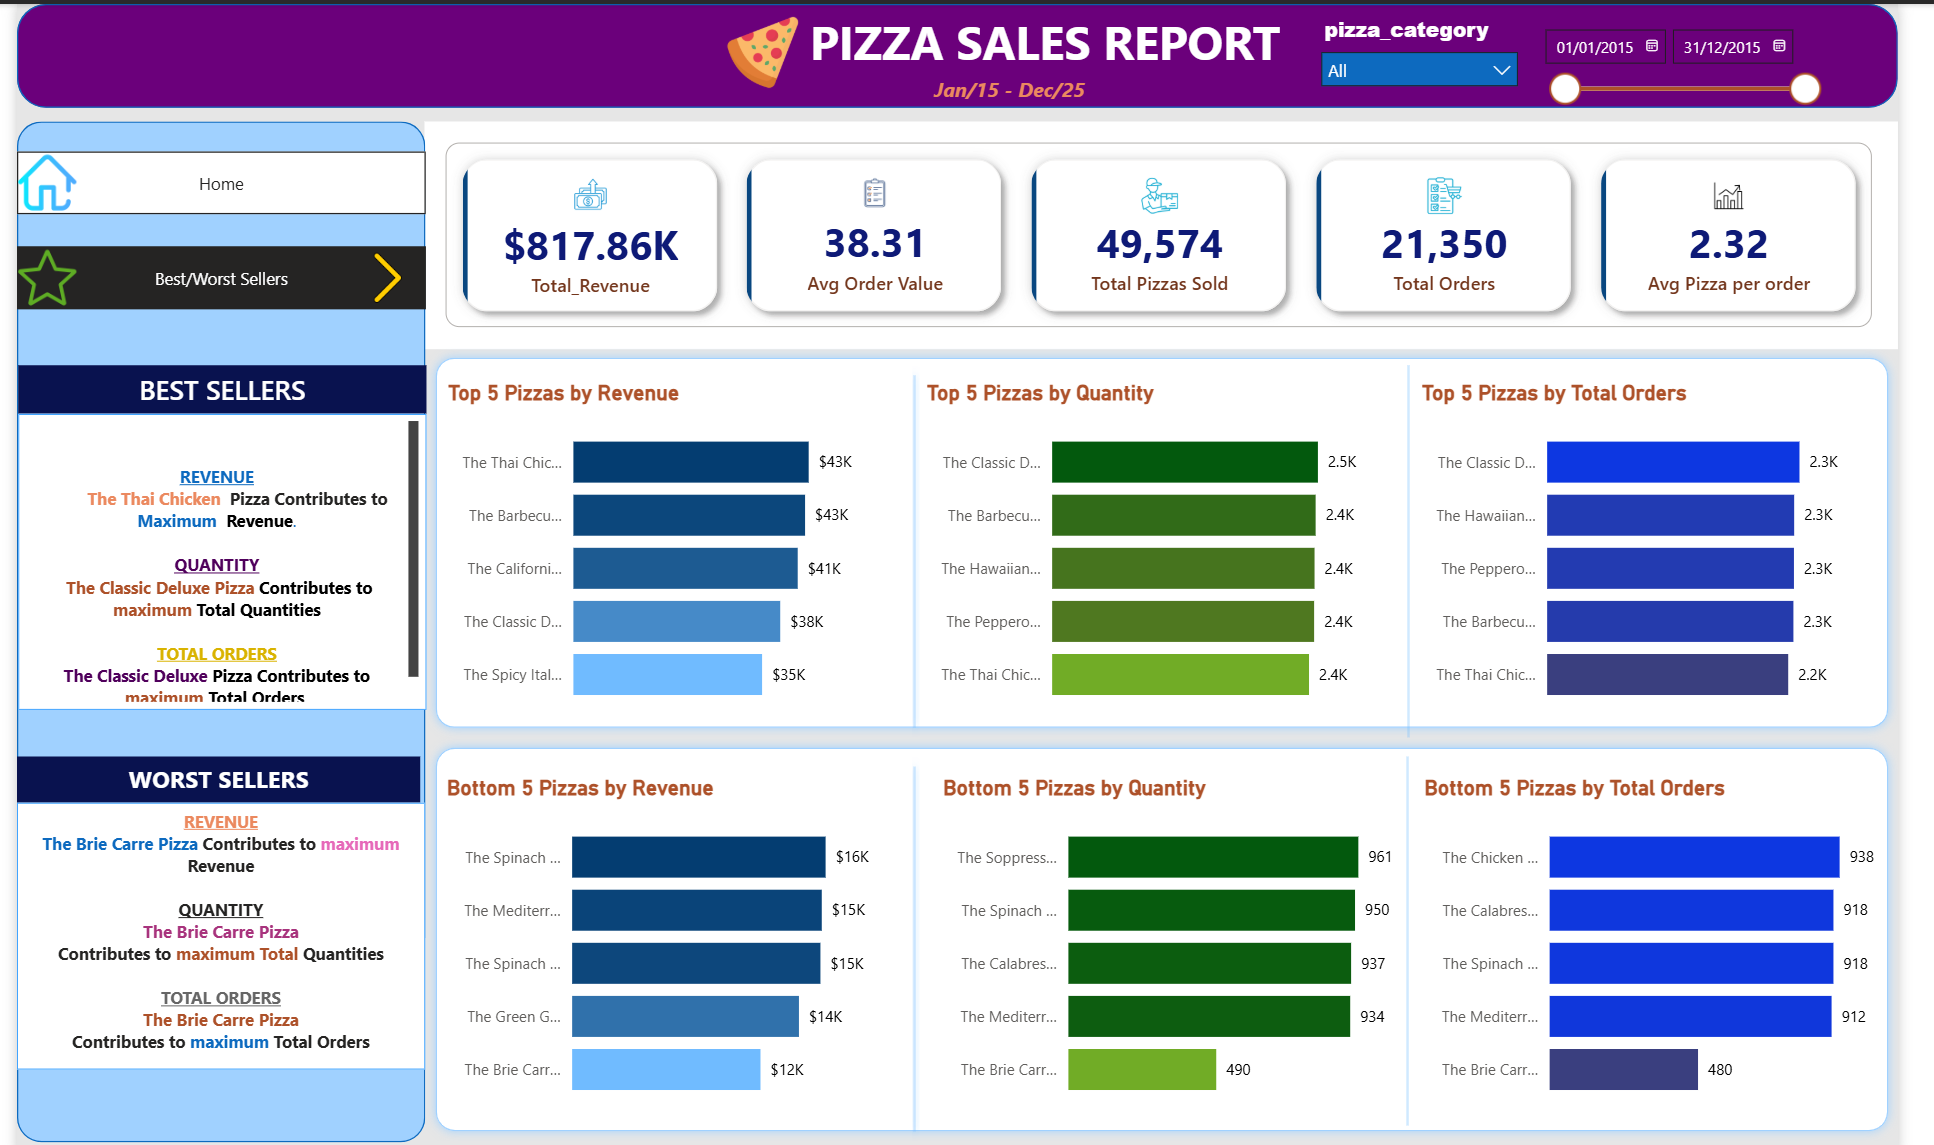

What the dashboard file says about the page in this screenshot:
{"tool":"powerbi","page":{"name":"Best/Worst Sellers","canvas":[1500,920],"ordinal":1},"visuals":[{"type":"cardVisual","fields":{"Data":["pizza_sales pizza_sales.Total_Revenue","pizza_sales pizza_sales.Avg Order Value","pizza_sales pizza_sales.Total Pizzas Sold","pizza_sales pizza_sales.Total Orders","pizza_sales pizza_sales.Avg Pizza per order"]},"box":[325,93.8,1175,181.2],"z":0},{"type":"shape","box":[325.6,585.9,1174.4,321.8],"z":0,"group":"g1"},{"type":"shape","box":[0,0,1500,82.8],"z":1000},{"type":"shape","box":[707.5,600.5,12.4,307.2],"z":1000,"group":"g1"},{"type":"textbox","box":[565.6,0,509.4,68.8],"z":2000},{"type":"shape","box":[1103,600.3,12.8,294.3],"z":2000,"group":"g1"},{"type":"textbox","box":[698.4,51.6,185.9,31.2],"z":3000},{"type":"pageNavigator","box":[0,118,326.9,50],"z":3000,"group":"g1"},{"type":"image","box":[565.6,9.4,59.4,59.4],"z":4000},{"type":"shape","box":[0,93.6,325.6,814.1],"z":5000},{"type":"textbox","box":[1.3,288.5,325.6,38.5],"z":6000},{"type":"textbox","box":[1.3,326.9,325.6,235.9],"z":7000},{"type":"textbox","box":[0,600,321.8,37.2],"z":8000},{"type":"textbox","box":[0,637.2,325.6,212.8],"z":9000},{"type":"slicer","fields":{"Values":["pizza_sales pizza_sales.pizza_category"]},"box":[1029.5,3.8,176.9,78.2],"z":10000},{"type":"shape","box":[325.6,274.4,1174.5,311.2],"z":10000,"group":"g2"},{"type":"slicer","fields":{"Values":["pizza_sales pizza_sales.order_date"]},"box":[1206.4,10.3,241,83.3],"z":11000},{"type":"shape","box":[707.5,288.5,12.4,297],"z":12000,"group":"g2"},{"type":"group","id":"g1","title":"Group 1","box":[0,118,1500,789.7],"z":13000},{"type":"shape","box":[1103.1,288.5,12.4,297],"z":13000,"group":"g2"},{"type":"barChart","title":"Top 5 Pizzas by Revenue","fields":{"Category":["pizza_sales pizza_sales.pizza_name"],"Y":["pizza_sales pizza_sales.Total_Revenue"]},"box":[338.4,300,369.2,274.4],"z":14000,"group":"g2"},{"type":"barChart","title":"Bottom 5 Pizzas by Revenue","fields":{"Category":["pizza_sales pizza_sales.pizza_name"],"Y":["pizza_sales pizza_sales.Total_Revenue"]},"box":[338.5,615.4,369.2,274.4],"z":15000},{"type":"barChart","title":"Top 5 Pizzas by Quantity","fields":{"Category":["pizza_sales pizza_sales.pizza_name"],"Y":["pizza_sales pizza_sales.Total Pizzas Sold"]},"box":[720.5,300,369.2,274.4],"z":16000,"group":"g2"},{"type":"barChart","title":"Bottom 5 Pizzas by Quantity","fields":{"Category":["pizza_sales pizza_sales.pizza_name"],"Y":["pizza_sales pizza_sales.Total Pizzas Sold"]},"box":[733.3,615.4,369.2,274.4],"z":17000},{"type":"barChart","title":"Top 5 Pizzas by Total Orders","fields":{"Category":["pizza_sales pizza_sales.pizza_name"],"Y":["pizza_sales pizza_sales.Total Orders"]},"box":[1115.3,300,369.2,274.4],"z":18000,"group":"g2"},{"type":"barChart","title":"Bottom 5 Pizzas by Total Orders","fields":{"Category":["pizza_sales pizza_sales.pizza_name"],"Y":["pizza_sales pizza_sales.Total Orders"]},"box":[1117.9,615.4,369.2,274.4],"z":19000},{"type":"pageNavigator","box":[0,193.6,326.9,50],"z":20000},{"type":"image","box":[270.5,198.7,51.3,39.7],"z":21000},{"type":"image","box":[1.3,117.9,46.2,50],"z":22000},{"type":"image","box":[1.3,193.6,46.2,50],"z":23000},{"type":"group","id":"g2","title":"Group 2","box":[325.6,274.4,1174.5,311.2],"z":23001}]}

Visuals, with their boxes on the page's 1500x920 design canvas (x1, y1, x2, y2). These are canvas units, not pixel positions in the 1934x1145 screenshot, which may show the page scaled, cropped or inside an application window:
cardVisual - pizza_sales pizza_sales.Total_Revenue x pizza_sales pizza_sales.Avg Order Value: 325 94 1500 275
shape: 326 586 1500 908
shape: 0 0 1500 83
shape: 708 600 720 908
textbox: 566 0 1075 69
shape: 1103 600 1116 895
textbox: 698 52 884 83
pageNavigator: 0 118 327 168
image: 566 9 625 69
shape: 0 94 326 908
textbox: 1 288 327 327
textbox: 1 327 327 563
textbox: 0 600 322 637
textbox: 0 637 326 850
slicer - pizza_sales pizza_sales.pizza_category: 1030 4 1206 82
shape: 326 274 1500 586
slicer - pizza_sales pizza_sales.order_date: 1206 10 1447 94
shape: 708 288 720 586
"Group 1" group: 0 118 1500 908
shape: 1103 288 1116 586
"Top 5 Pizzas by Revenue" barChart: 338 300 708 574
"Bottom 5 Pizzas by Revenue" barChart: 338 615 708 890
"Top 5 Pizzas by Quantity" barChart: 720 300 1090 574
"Bottom 5 Pizzas by Quantity" barChart: 733 615 1102 890
"Top 5 Pizzas by Total Orders" barChart: 1115 300 1484 574
"Bottom 5 Pizzas by Total Orders" barChart: 1118 615 1487 890
pageNavigator: 0 194 327 244
image: 270 199 322 238
image: 1 118 48 168
image: 1 194 48 244
"Group 2" group: 326 274 1500 586
